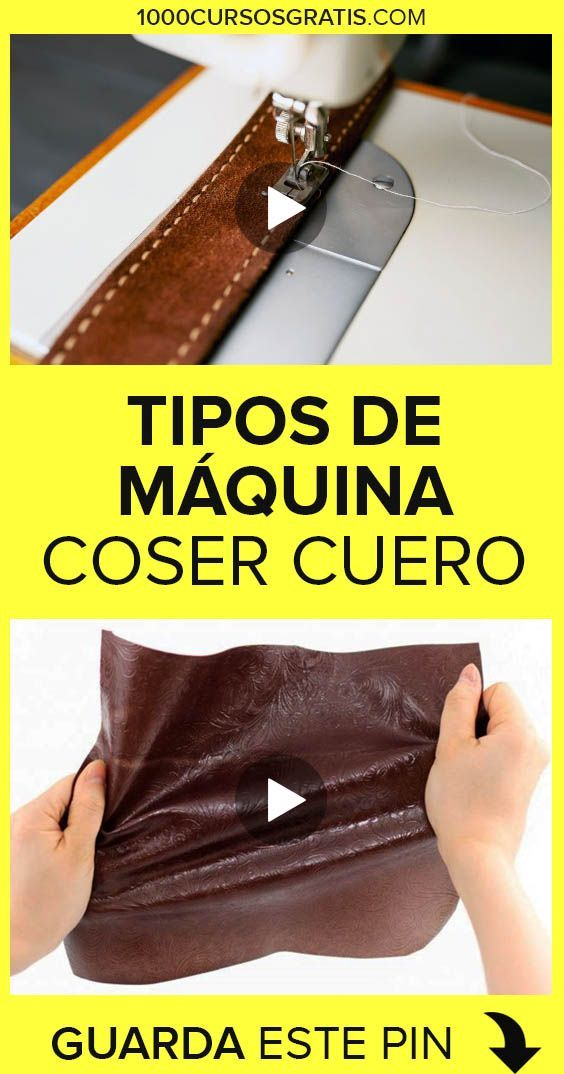cuero: (63, 628, 484, 986)
